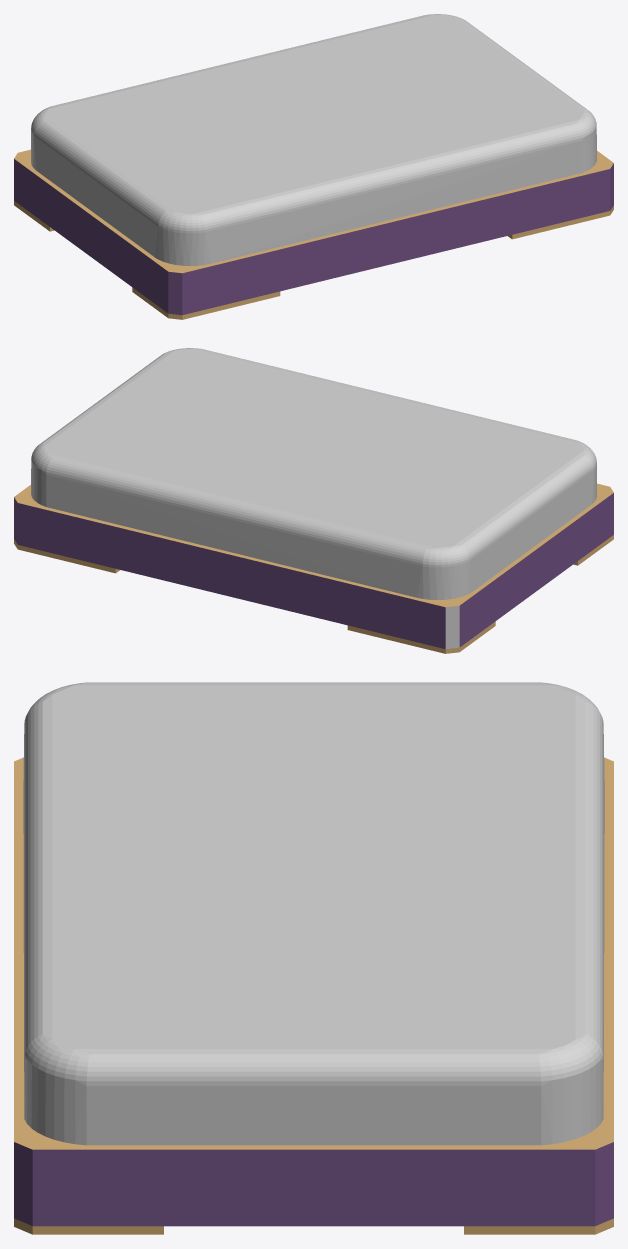
The picture shows the model from 3 angles, top to bottom: view 1: azimuth 30°, elevation 25°; view 2: azimuth 150°, elevation 25°; view 3: azimuth 270°, elevation 25°; orthographic projection. The views are drawn at different scales.
Parts seen in each view (by area): view 1: _4; view 2: _4; view 3: _4.
Part boxes in pixels (bbox=[...]): _4: bbox=[14, 14, 613, 319]; _4: bbox=[14, 348, 613, 653]; _4: bbox=[14, 682, 613, 1234].
Bounding box in the file's own units: 5 × 3.2 × 0.9977.
